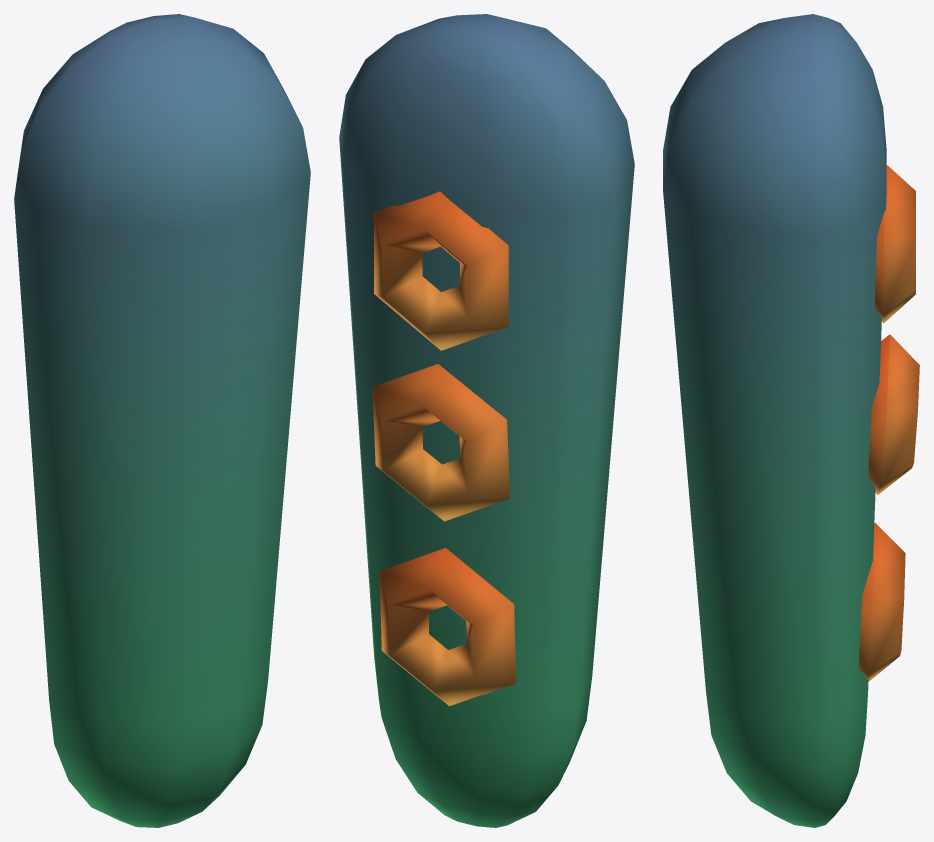
Rendered from Squiddy_UpperLeg.FBX.
3 views of the same model, side by side, from view 1: azimuth 30°, elevation 25°; view 2: azimuth 150°, elevation 25°; view 3: azimuth 270°, elevation 25° (orthographic).
Visible parts, largest first — view 1: Upper_Leg; view 2: Upper_Leg; view 3: Upper_Leg.
Boxes of the visible parts, box(x1,y1,x2,y2) form: Upper_Leg: box(14, 14, 310, 827); Upper_Leg: box(339, 14, 634, 827); Upper_Leg: box(663, 14, 919, 827).
Size of the model in its own units: 10.66 by 29.5 by 8.67.
